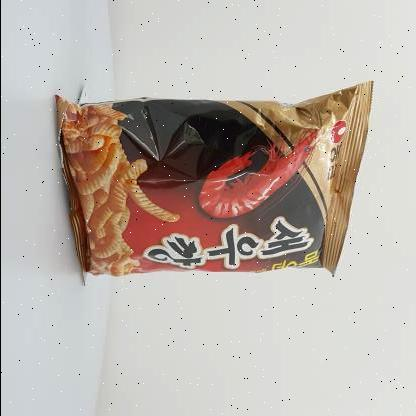Others: (49, 69, 383, 297)
